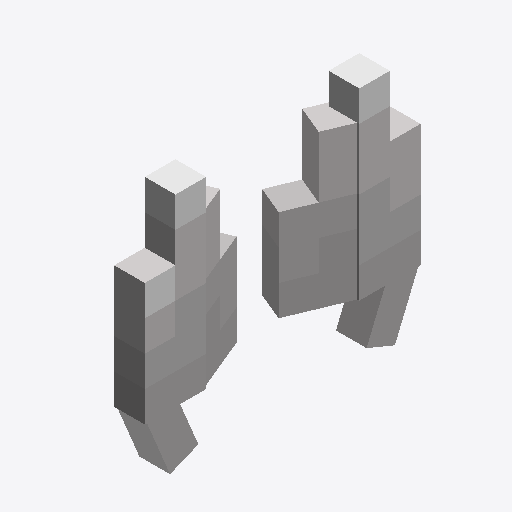
A Minecraft block model of 14 cuboids, rendered isometrically (azimuth 45°, elevation 35.3°) with the resource pack's own textures.
Parts seen in each view (by area): element 2, element 9, element 3, element 6, element 8, element 4, element 11, element 7, element 13, element 14, element 10, element 5 (+2 smaller).
Boxes of the visible parts, x1,y1,x2,y2 form: element 2: [262, 180, 356, 317]; element 9: [114, 283, 205, 423]; element 3: [357, 159, 420, 300]; element 6: [302, 102, 356, 201]; element 8: [206, 233, 236, 384]; element 4: [336, 267, 417, 347]; element 11: [145, 213, 205, 300]; element 7: [329, 53, 389, 123]; element 13: [145, 159, 205, 229]; element 14: [114, 248, 174, 317]; element 10: [118, 404, 197, 473]; element 5: [357, 106, 389, 193].
Bounding box in the file's own units: 9 × 7.84 × 1.74.